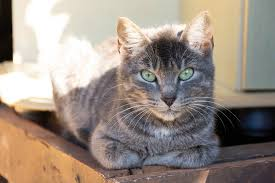Gato: (99, 15, 228, 151)
